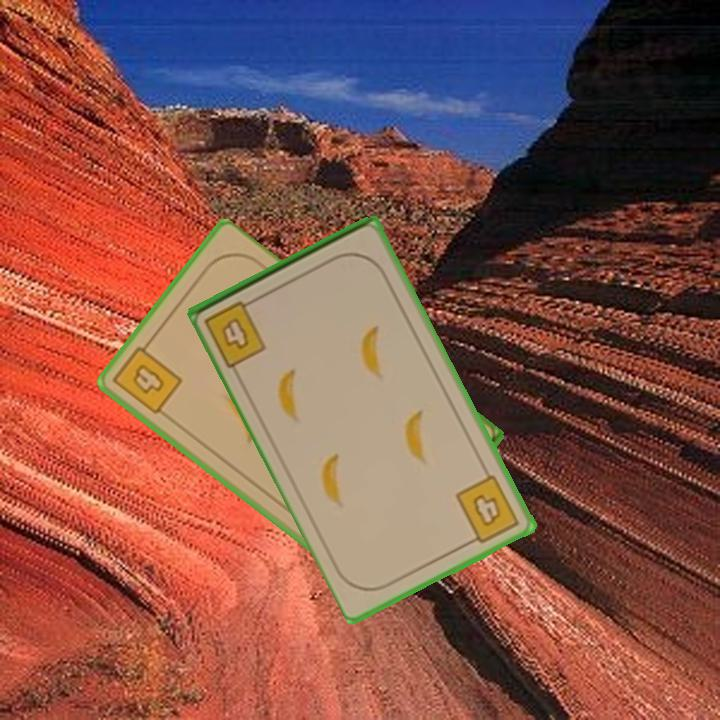4b: (110, 336, 185, 418), (452, 471, 523, 548), (200, 294, 270, 370)
